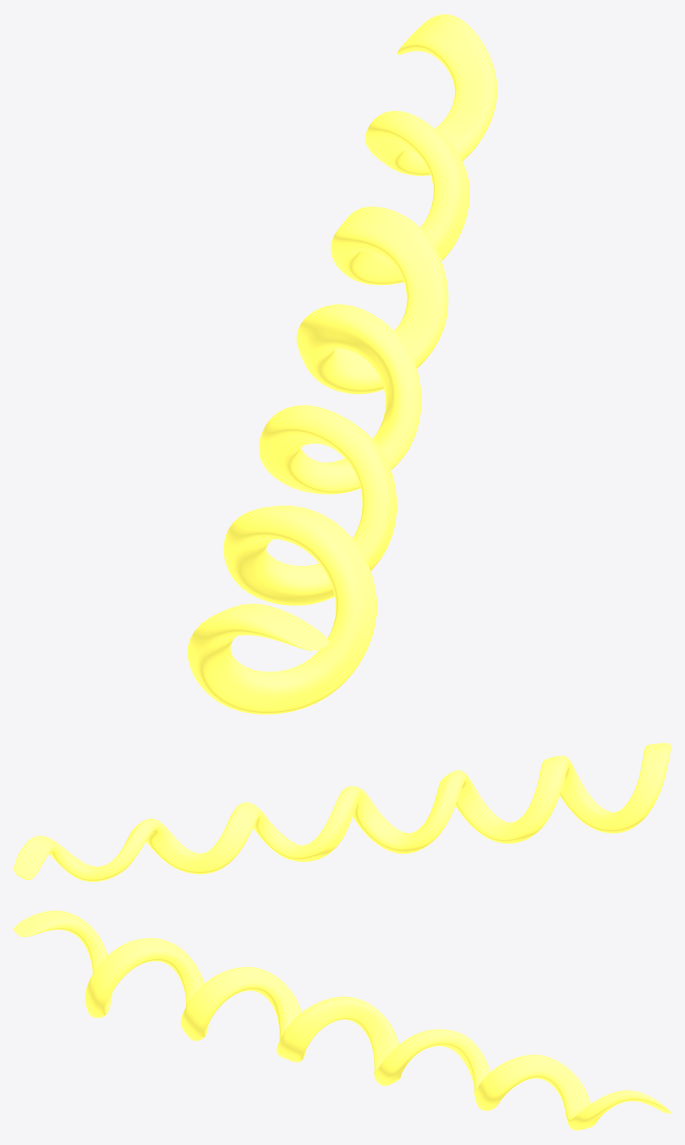
File: Fusili.008.gltf
3 views of the same model, one above another, from view 1: azimuth 30°, elevation 25°; view 2: azimuth 150°, elevation 25°; view 3: azimuth 270°, elevation 25° (orthographic). The views are drawn at different scales.
Parts seen in each view (by area): view 1: Fusili.008; view 2: Fusili.008; view 3: Fusili.008.
Part boxes in pixels (x1,y1,x2,y2): Fusili.008: [187, 14, 497, 714]; Fusili.008: [14, 743, 670, 881]; Fusili.008: [14, 910, 670, 1130].
Bounding box in the file's own units: 7.57 × 1.66 × 10.22.
